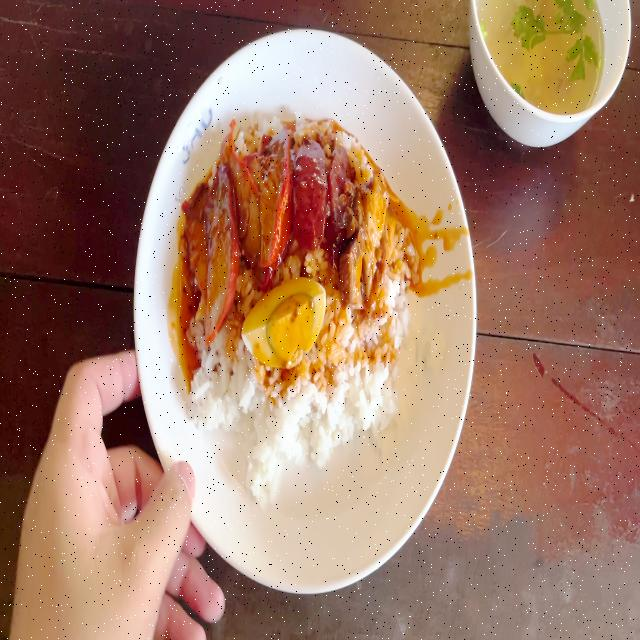boiled_egg: (246, 278, 325, 367)
chainese_sausage: (293, 136, 356, 250)
crispy_pork: (344, 182, 398, 304)
red_pork: (190, 132, 290, 313)
red_pork_and_crispy_pork: (181, 124, 408, 461)
rice: (239, 376, 329, 493), (325, 307, 400, 440), (188, 334, 242, 428)
